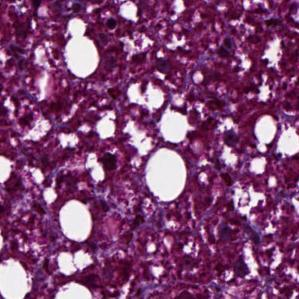steatosis: (59, 197, 96, 241)
